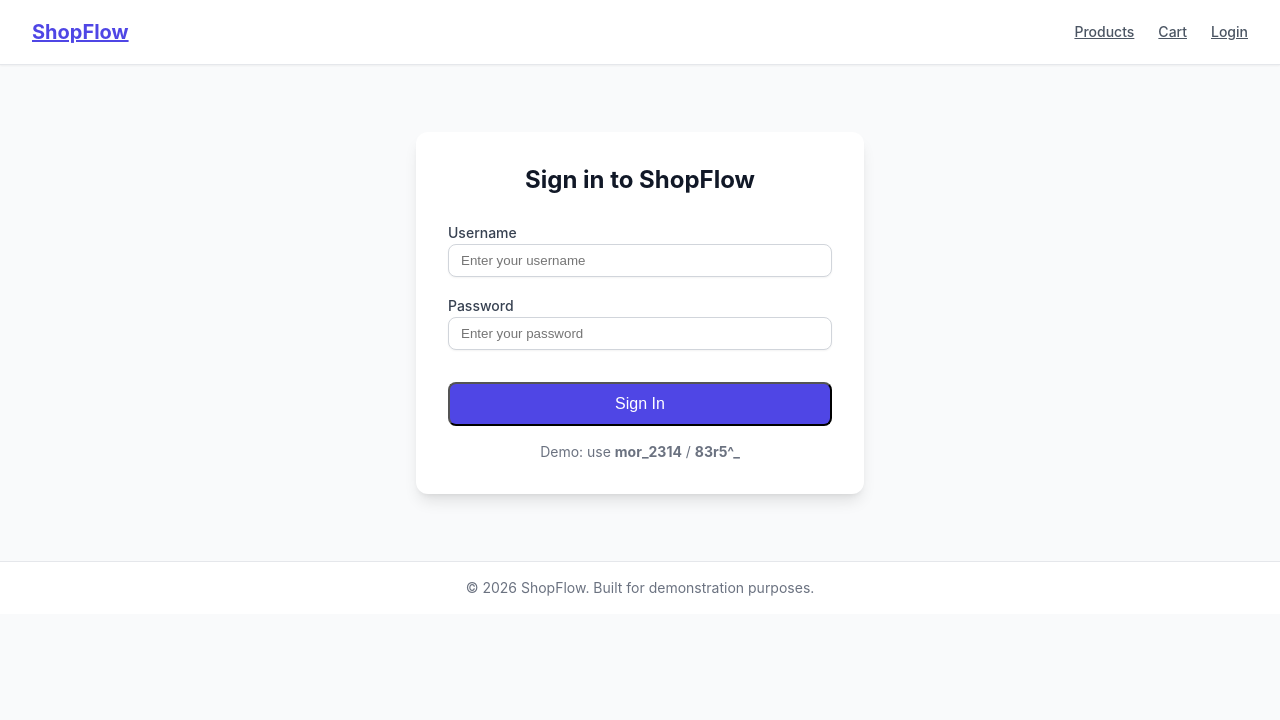
Test: Login Flow › should show validation errors for empty fields
Click the button with test id "login-submit-button" at (640, 404), box top-left (448, 382), bottom-right (832, 426)
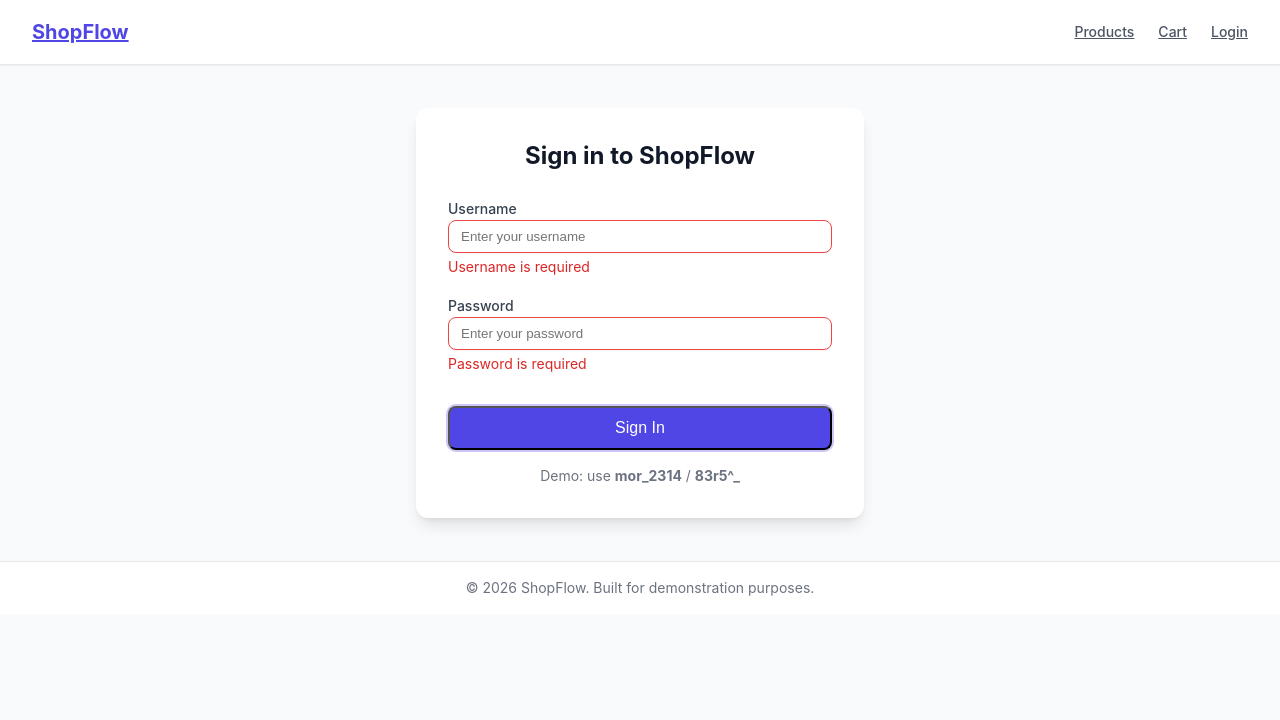
Now the text with id "username-error" reads "Username is required", box top-left (448, 258), bottom-right (590, 275)
Now the text "Password is required" is shown, box top-left (448, 355), bottom-right (587, 372)
